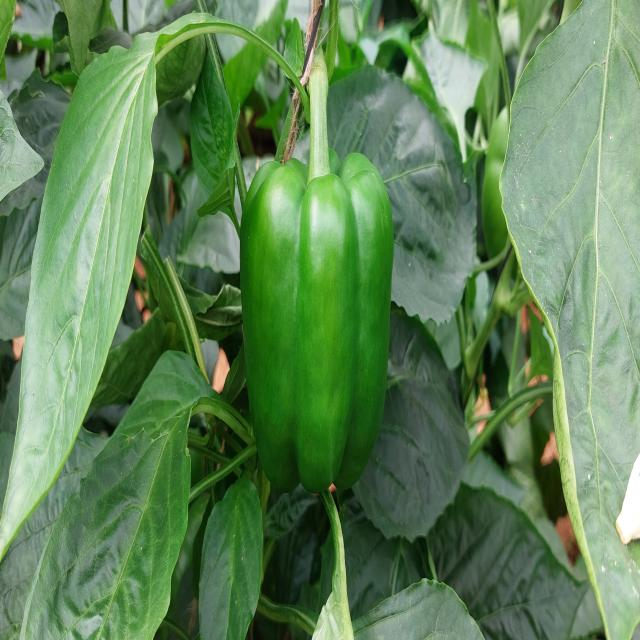Green--Not-ready-to-harvest: (242, 147, 393, 507)
